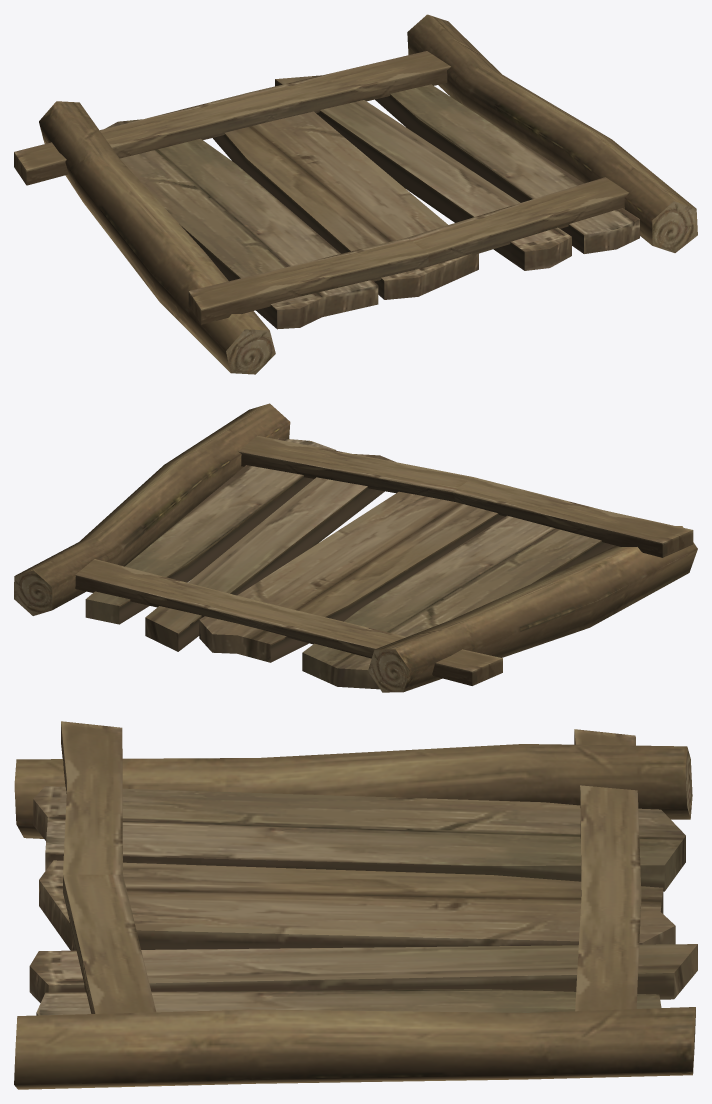
The model's file is muban_02.FBX.
The picture shows the model from 3 angles, top to bottom: view 1: azimuth 30°, elevation 25°; view 2: azimuth 150°, elevation 25°; view 3: azimuth 270°, elevation 25°; orthographic projection. The views are drawn at different scales.
Visible parts, largest first — view 1: fb_chisd_mujia_b; view 2: fb_chisd_mujia_b; view 3: fb_chisd_mujia_b.
Boxes of the visible parts, box(x1,y1,x2,y2) form: fb_chisd_mujia_b: box(14, 14, 697, 374); fb_chisd_mujia_b: box(14, 403, 697, 692); fb_chisd_mujia_b: box(14, 721, 697, 1089).
Size of the model in its own units: 413 by 71.2 by 369.
